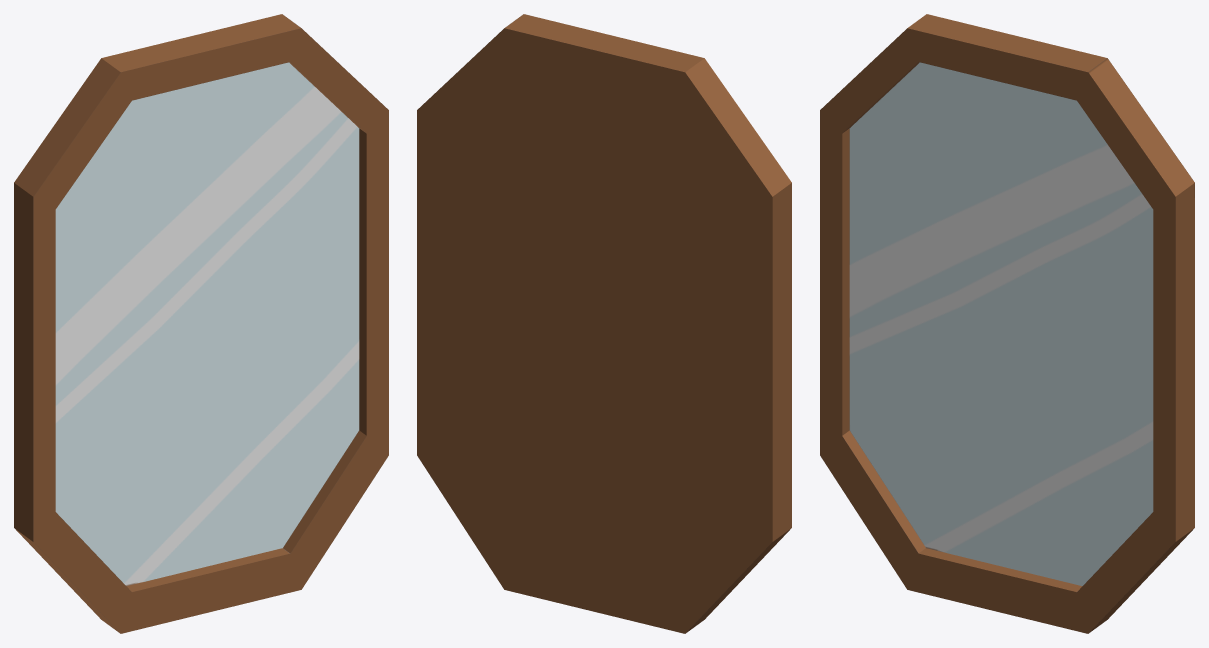
The model's file is mirror.fbx.
3 views of the same model, side by side, from view 1: azimuth 30°, elevation 25°; view 2: azimuth 150°, elevation 25°; view 3: azimuth 330°, elevation 25° (orthographic).
Visible parts, largest first — view 1: polySurface3; view 2: polySurface3; view 3: polySurface3.
Boxes of the visible parts, bbox=[...] form: polySurface3: bbox=[14, 14, 388, 633]; polySurface3: bbox=[417, 14, 791, 633]; polySurface3: bbox=[820, 14, 1194, 633].
Size of the model in its own units: 1.08 by 1.63 by 0.1023.
Materials: 1 (1 with a texture image).
